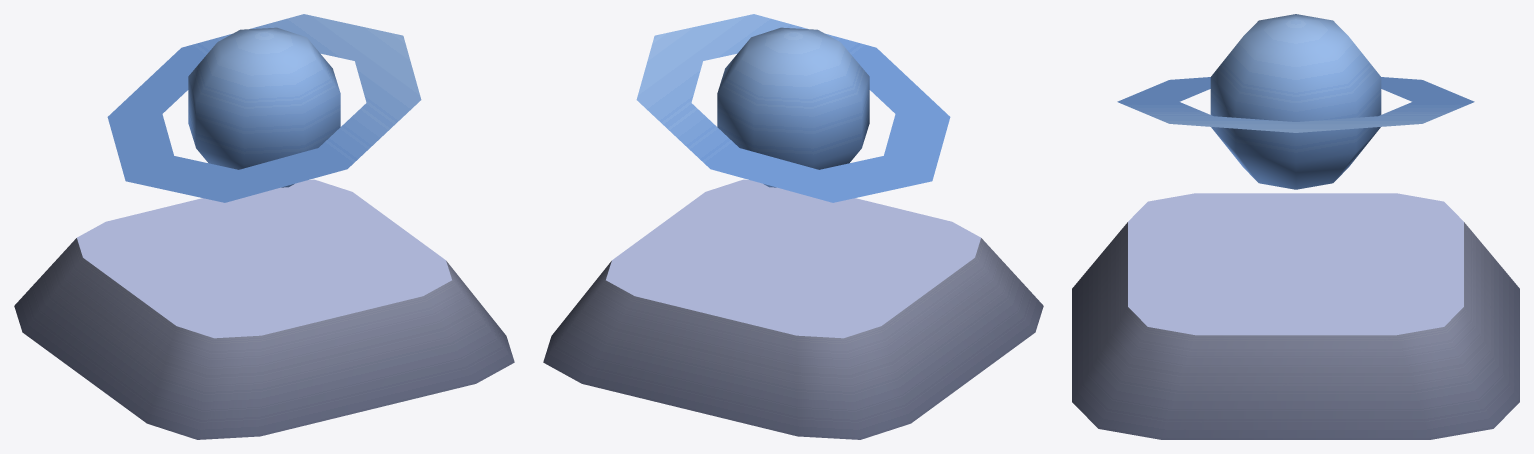
File: table-display-planet.glb
3 views of the same model, side by side, from view 1: azimuth 30°, elevation 25°; view 2: azimuth 150°, elevation 25°; view 3: azimuth 270°, elevation 25° (orthographic). The views are drawn at different scales.
Parts seen in each view (by area): view 1: table-display-planet, planet-ring, planet; view 2: table-display-planet, planet-ring, planet; view 3: table-display-planet, planet, planet-ring.
Part boxes in pixels (x1,y1,x2,y2): table-display-planet: (14,179,514,439); planet-ring: (107,14,421,202); planet: (188,27,340,187); table-display-planet: (543,179,1043,439); planet-ring: (636,14,950,202); planet: (717,27,869,187); table-display-planet: (1072,193,1519,439); planet: (1210,14,1381,189); planet-ring: (1117,77,1474,132).
Bounding box in the file's own units: 0.5 × 0.4 × 0.5.
Materials: 1 (1 with a texture image).
